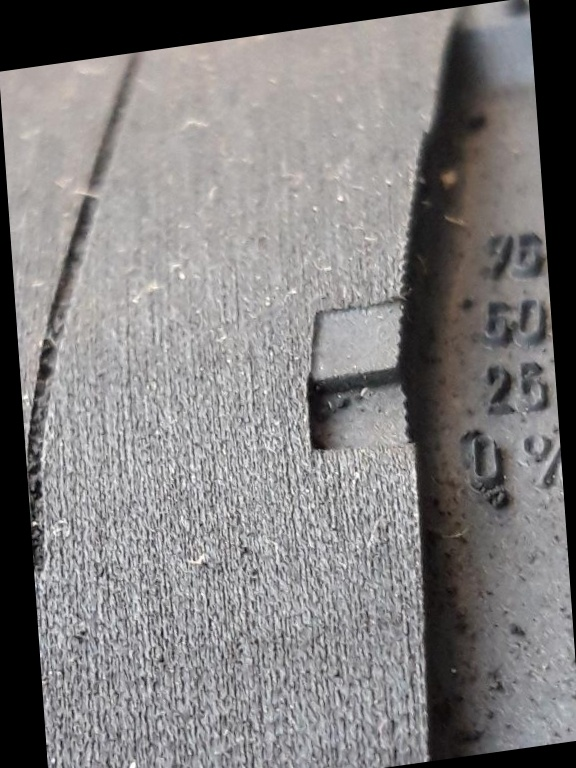temoin:25: (286, 280, 438, 477)
